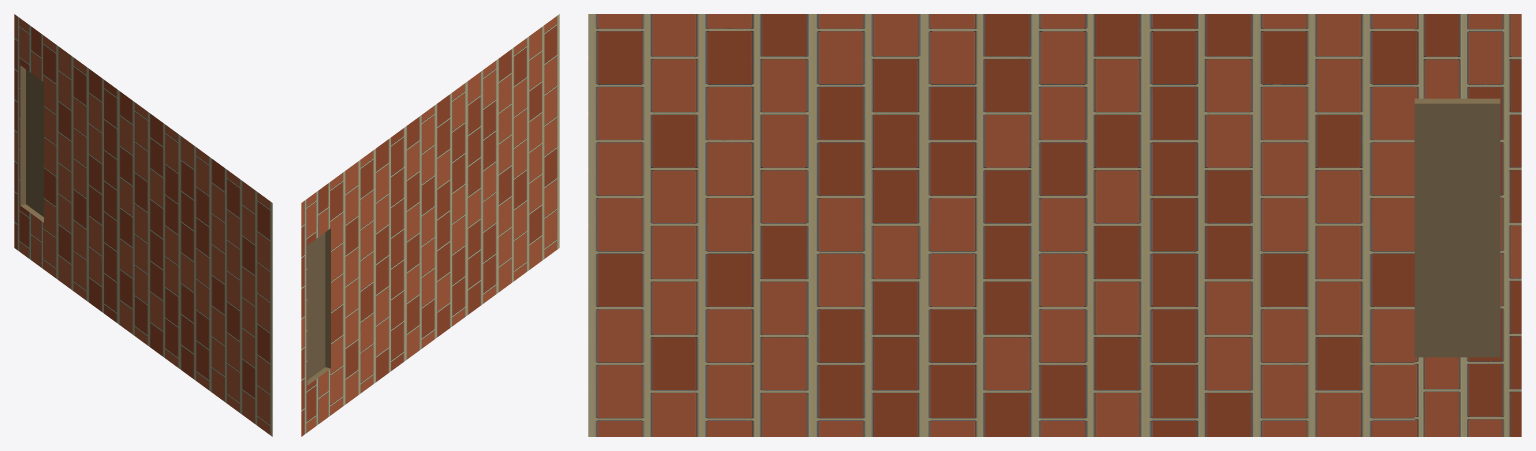
The model's file is wall08.fbx.
3 renders of one model, left to right at view 1: azimuth 30°, elevation 25°; view 2: azimuth 150°, elevation 25°; view 3: azimuth 270°, elevation 25°, orthographic. The views are drawn at different scales.
Visible parts, largest first — view 1: Cube; view 2: Cube; view 3: Cube.
Boxes of the visible parts, x1=… form: Cube: x1=14, y1=14, x2=272, y2=436; Cube: x1=301, y1=14, x2=559, y2=436; Cube: x1=588, y1=14, x2=1521, y2=436.
Size of the model in its own units: 5 by 200 by 400.
